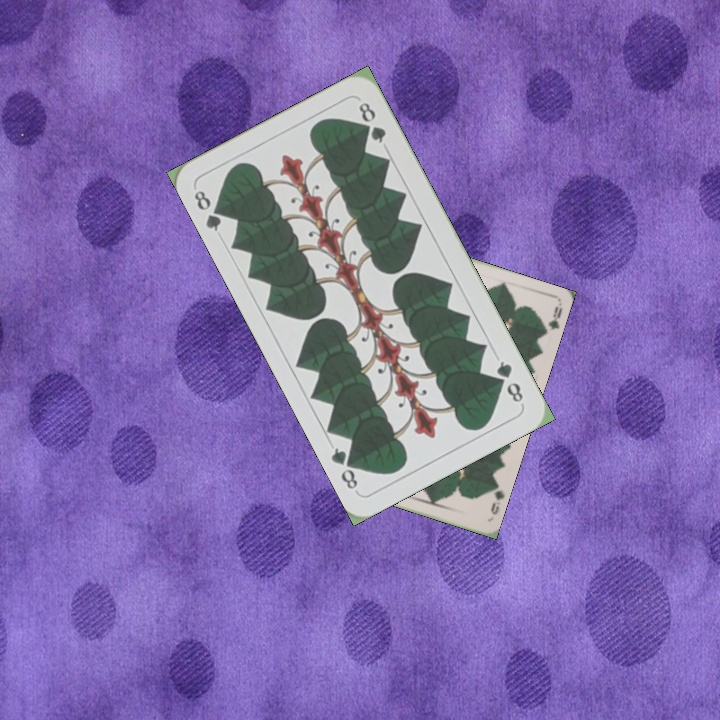G8: (189, 186, 229, 234), (492, 356, 526, 408)
G9: (486, 480, 506, 517)
